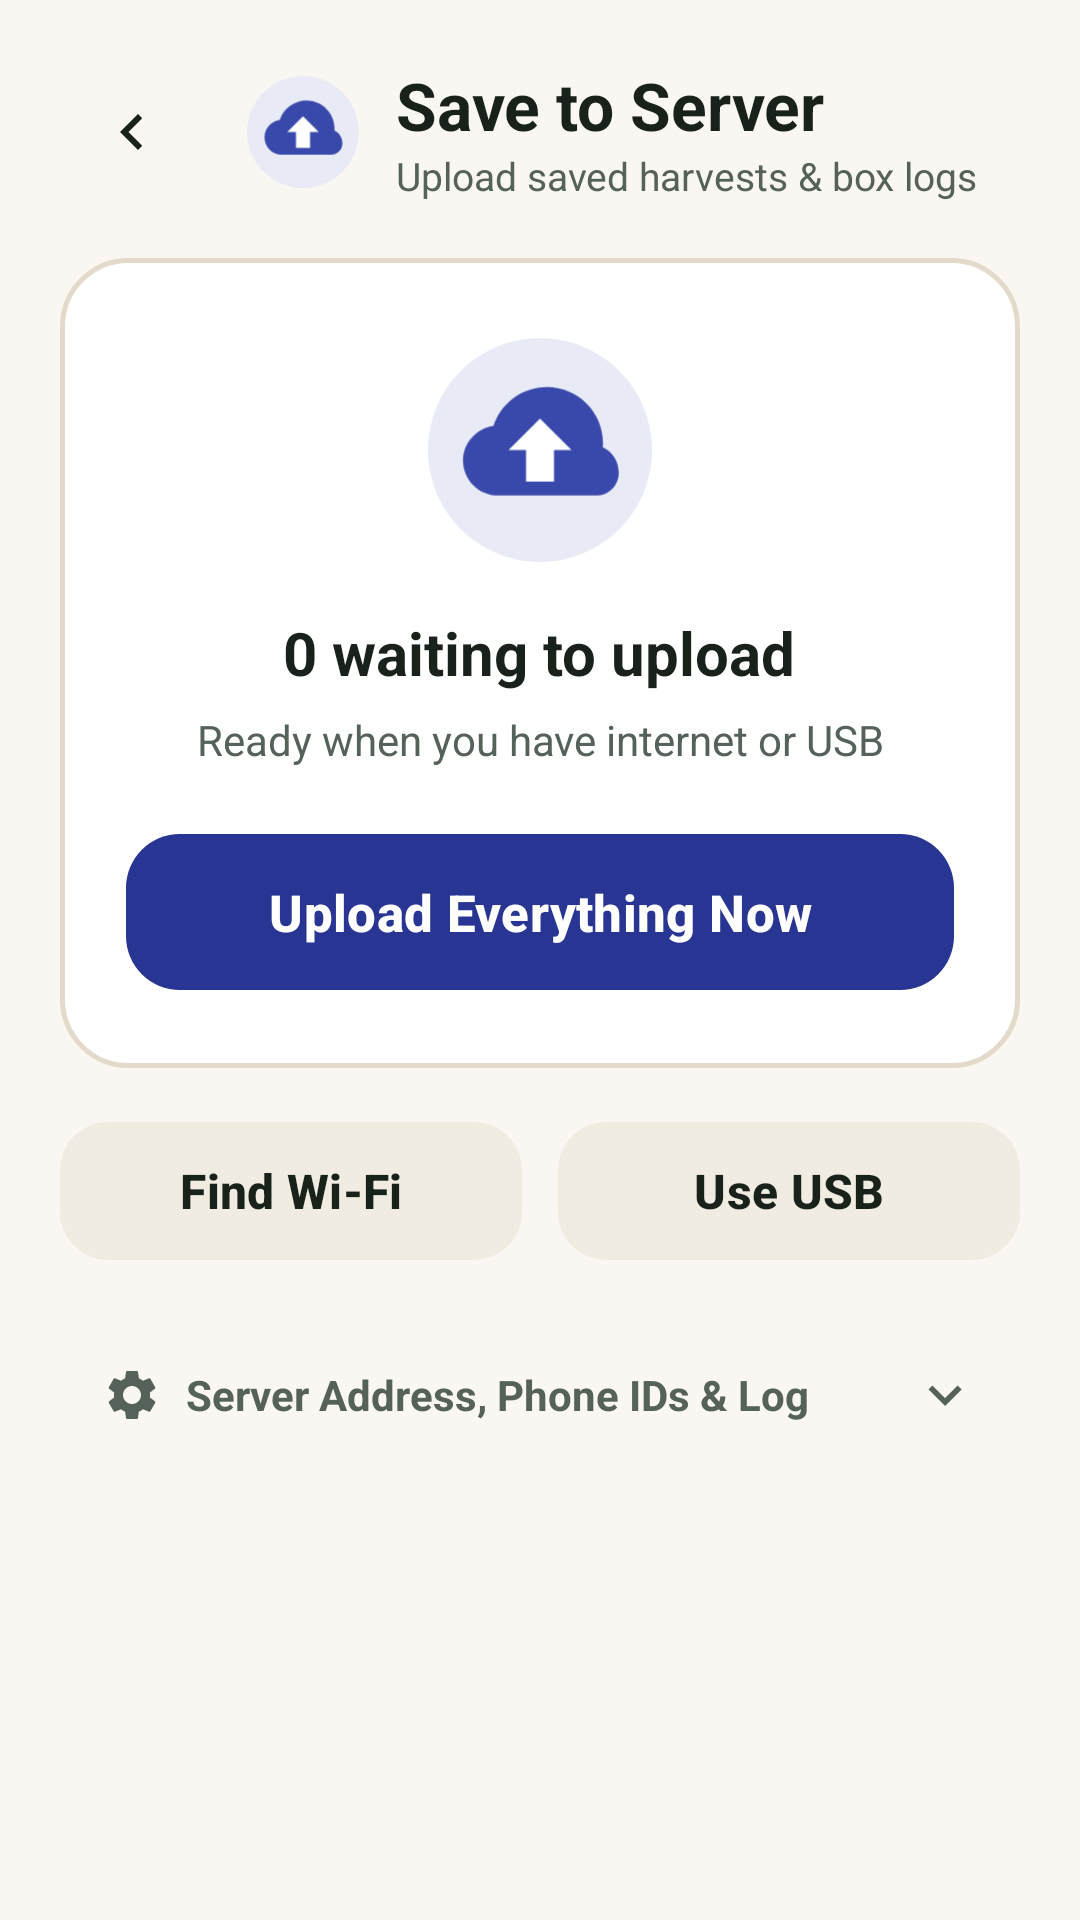

Named icons in this screenshot (1080px x 1920px) and their bounding boxes, (x1, y1, x2, y2):
Back: (120, 114, 142, 150)
Expand: (928, 1385, 962, 1406)
Setup: (108, 1371, 156, 1419)
